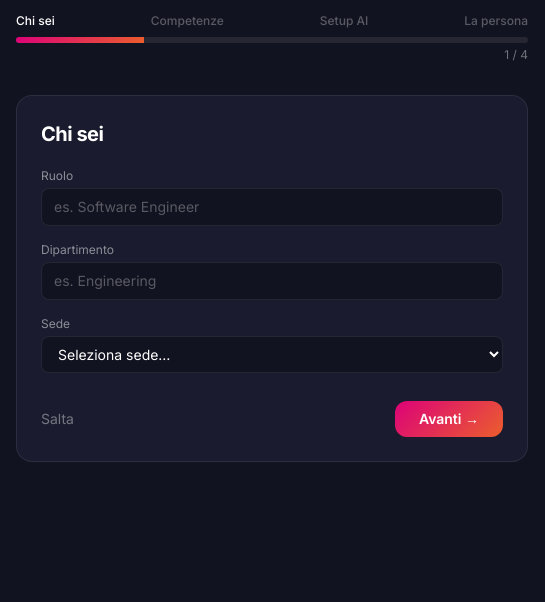
Test: OnboardingWizard › shows "Completa ✓" on the last step
This screenshot has width=545, height=602.
Note: Skip to last step
Click the button "Salta".
click(58, 419)  # box [41,401,74,437]
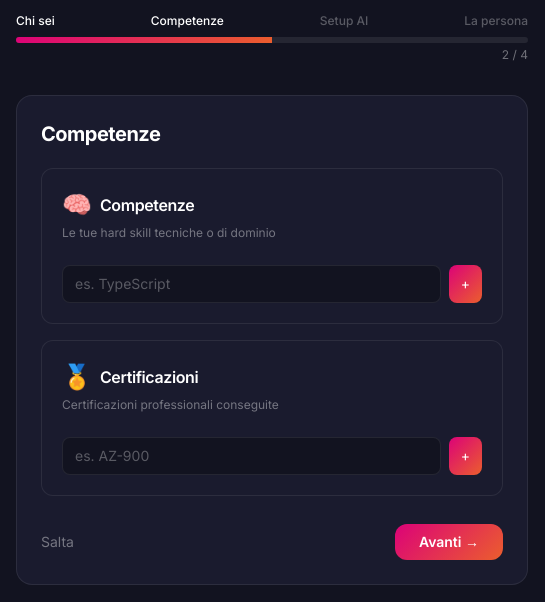
Click the button "Salta".
click(58, 542)  # box [41,524,74,560]
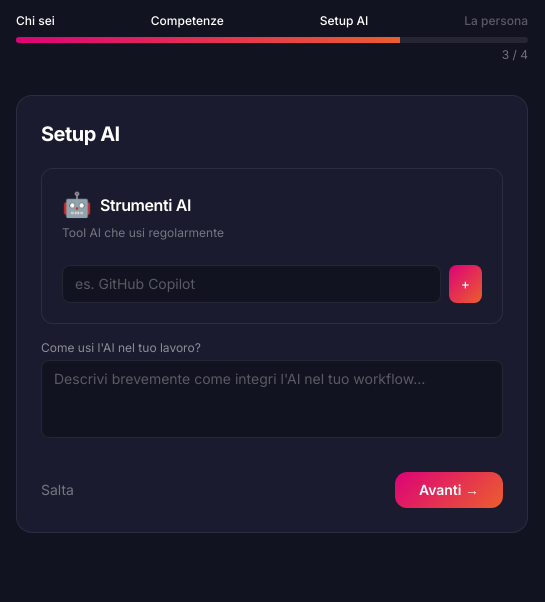
Click the button "Salta".
click(58, 490)  # box [41,472,74,508]
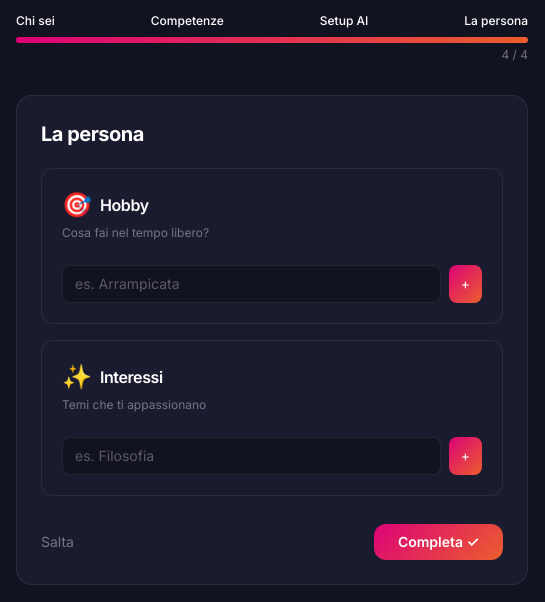
Now the button "Completa ✓" is shown, box [374,524,503,560]
